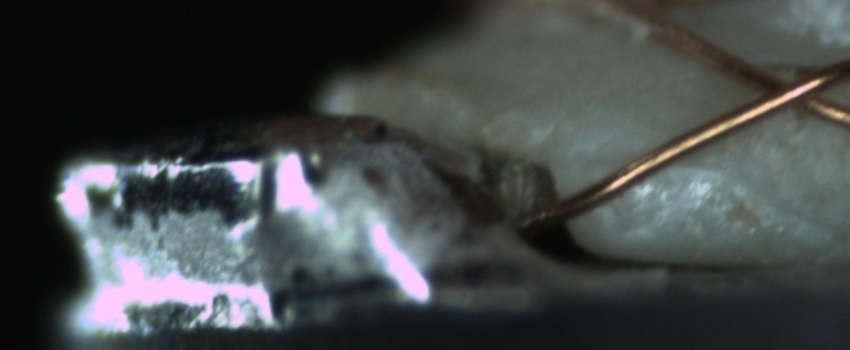CL: (719, 54, 847, 124)
